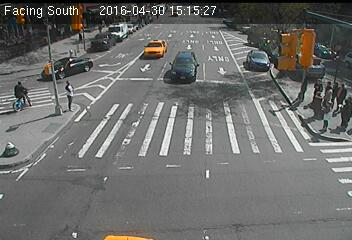neg: (203, 32, 224, 60), (141, 41, 162, 68), (115, 37, 131, 59), (40, 36, 55, 56), (181, 38, 194, 56)
pos: (56, 77, 81, 110), (308, 77, 331, 108), (318, 100, 338, 128), (321, 85, 339, 109), (338, 99, 351, 126), (337, 82, 351, 105), (96, 22, 105, 34)
